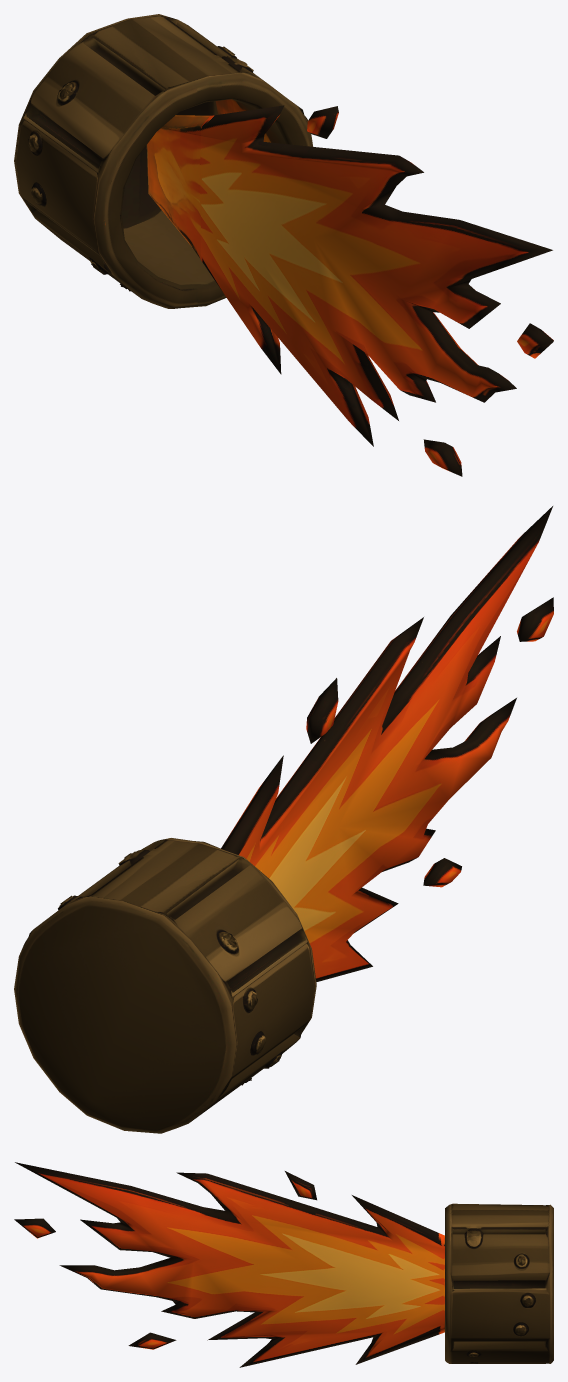
Rendered from nitro-orange-b.glb.
3 views of the same model, one above another, from view 1: azimuth 30°, elevation 25°; view 2: azimuth 150°, elevation 25°; view 3: azimuth 270°, elevation 25° (orthographic). The views are drawn at different scales.
Parts seen in each view (by area): view 1: tripo_node_443e9e4d-f713-4a4d-b9ea-9f00cf1ca9c5; view 2: tripo_node_443e9e4d-f713-4a4d-b9ea-9f00cf1ca9c5; view 3: tripo_node_443e9e4d-f713-4a4d-b9ea-9f00cf1ca9c5.
Part boxes in pixels (left/top/right/bottom): tripo_node_443e9e4d-f713-4a4d-b9ea-9f00cf1ca9c5: left=14, top=14, right=553, bottom=476; tripo_node_443e9e4d-f713-4a4d-b9ea-9f00cf1ca9c5: left=14, top=506, right=553, bottom=1133; tripo_node_443e9e4d-f713-4a4d-b9ea-9f00cf1ca9c5: left=14, top=1162, right=553, bottom=1367.
Size of the model in its own units: 0.32 by 0.4418 by 1.05.
Materials: 1 (1 with a texture image).
